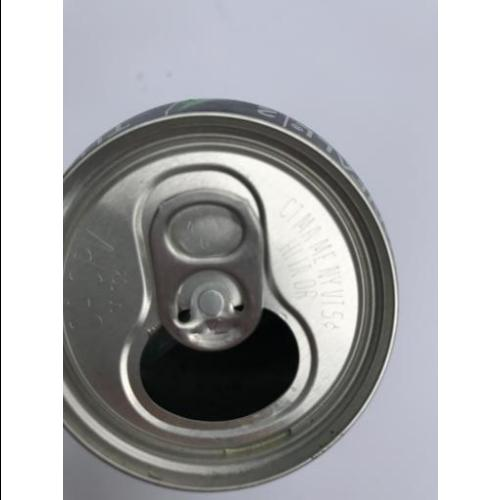metal: (63, 100, 399, 492)
